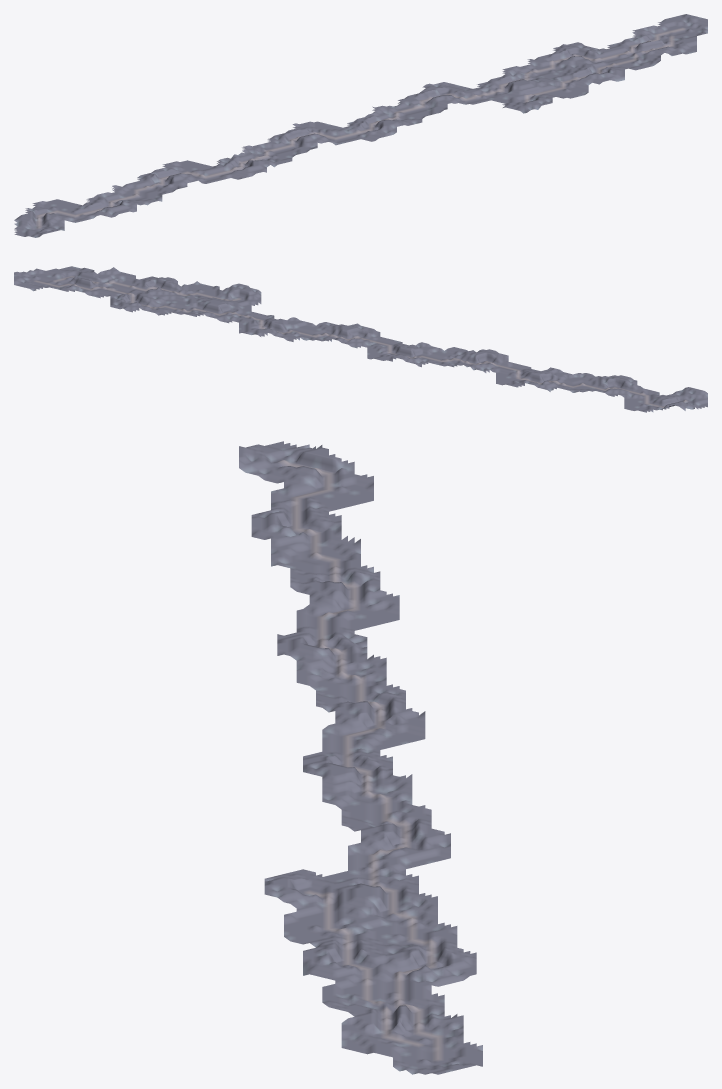
Rendered from terrain.glb.
3 views of the same model, one above another, from view 1: azimuth 30°, elevation 25°; view 2: azimuth 150°, elevation 25°; view 3: azimuth 270°, elevation 25° (orthographic). The views are drawn at different scales.
Parts seen in each view (by area): view 1: NATURAL_13_-2, NATURAL_12_-1, NATURAL_15_-2, NATURAL_14_-2, NATURAL_10_-2, NATURAL_3_-1, NATURAL_11_-2, NATURAL_4_-1, NATURAL_1_-1, NATURAL_2_-1, NATURAL_11_-1, NATURAL_0_-1 (+16 smaller); view 2: NATURAL_11_-1, NATURAL_15_-2, NATURAL_13_-2, NATURAL_4_-1, NATURAL_5_-1, NATURAL_1_-1, NATURAL_14_-2, NATURAL_12_-2, NATURAL_10_-2, NATURAL_11_-2, NATURAL_3_-1, NATURAL_2_-1 (+17 smaller); view 3: NATURAL_14_-2, NATURAL_15_-2, NATURAL_12_-1, NATURAL_13_-2, NATURAL_5_-1, NATURAL_2_-1, NATURAL_12_-2, NATURAL_0_-1, NATURAL_10_-2, NATURAL_4_-1, NATURAL_11_-2, NATURAL_11_-1 (+16 smaller).
Part boxes in pixels (x1,y1,x2,y2): NATURAL_13_-2: (517, 57, 602, 79); NATURAL_12_-1: (517, 79, 588, 98); NATURAL_15_-2: (607, 35, 689, 57); NATURAL_14_-2: (560, 48, 645, 69); NATURAL_10_-2: (398, 87, 472, 111); NATURAL_3_-1: (126, 173, 197, 193); NATURAL_11_-2: (430, 83, 515, 101); NATURAL_4_-1: (170, 165, 255, 183); NATURAL_1_-1: (39, 197, 125, 218); NATURAL_2_-1: (94, 184, 165, 205); NATURAL_11_-1: (473, 85, 552, 109); NATURAL_0_-1: (15, 205, 81, 227); NATURAL_11_-1: (223, 286, 261, 317); NATURAL_15_-2: (68, 270, 107, 297); NATURAL_13_-2: (145, 287, 184, 314); NATURAL_4_-1: (492, 352, 531, 381); NATURAL_5_-1: (454, 347, 492, 372); NATURAL_1_-1: (608, 378, 646, 410); NATURAL_14_-2: (107, 278, 145, 305); NATURAL_12_-2: (184, 297, 222, 321); NATURAL_10_-2: (261, 317, 299, 341); NATURAL_11_-2: (223, 303, 261, 332); NATURAL_3_-1: (531, 367, 569, 390); NATURAL_2_-1: (570, 373, 608, 394); NATURAL_14_-2: (361, 949, 437, 1007); NATURAL_15_-2: (361, 990, 437, 1045); NATURAL_12_-1: (284, 886, 360, 944); NATURAL_13_-2: (361, 909, 437, 970); NATURAL_5_-1: (284, 632, 360, 682); NATURAL_2_-1: (284, 521, 360, 571); NATURAL_12_-2: (361, 882, 437, 933); NATURAL_0_-1: (284, 447, 360, 501); NATURAL_10_-2: (361, 805, 437, 859); NATURAL_4_-1: (284, 591, 360, 645); NATURAL_11_-2: (361, 833, 437, 890); NATURAL_11_-1: (284, 859, 360, 908).
Size of the model in its own units: 382 by 2.9 by 61.56.
